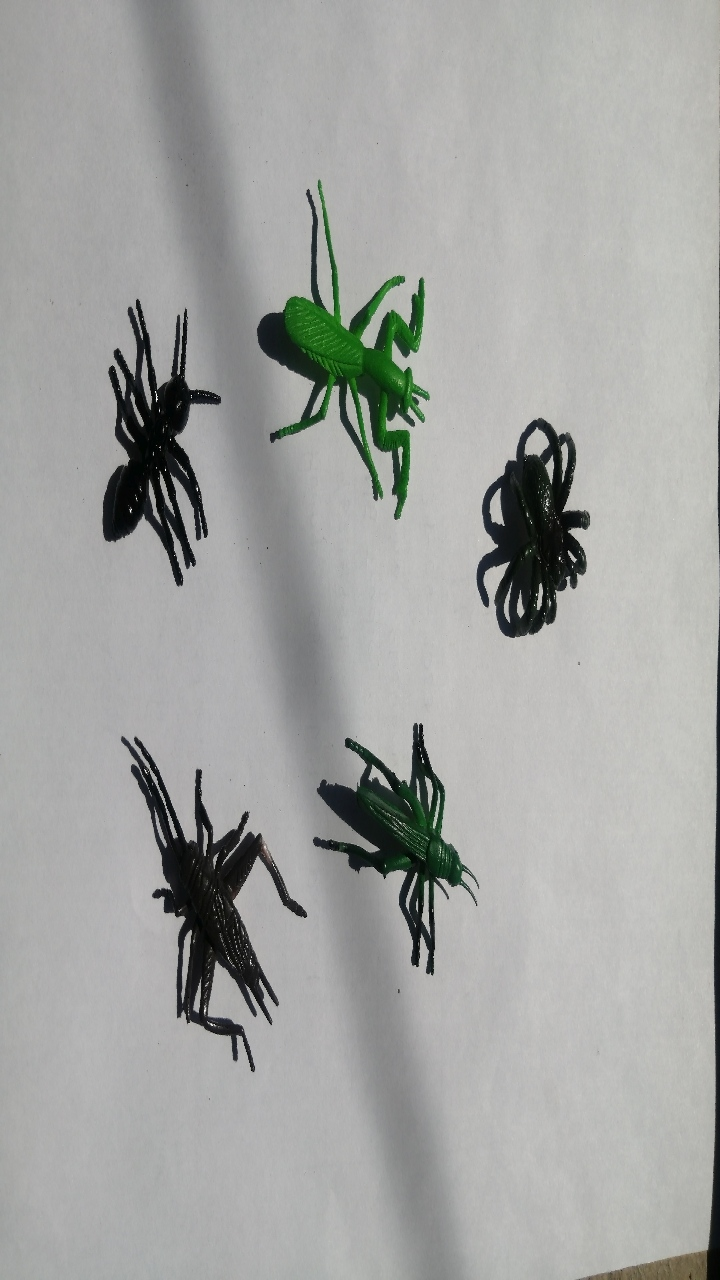intruso: (89, 695, 308, 1105), (244, 172, 435, 539), (308, 679, 492, 985), (80, 251, 224, 594), (454, 385, 601, 666)
